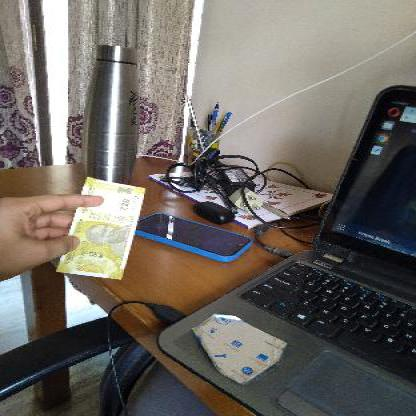New20Front: (59, 175, 140, 279)
